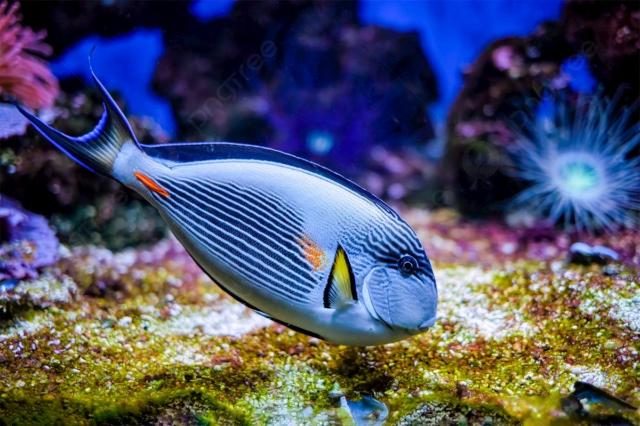Mulut: (389, 294, 463, 360)
Sirip Dada: (311, 228, 367, 324)
Sirip Ekor: (0, 37, 142, 188)
Sirip Punggung: (136, 128, 402, 220)
